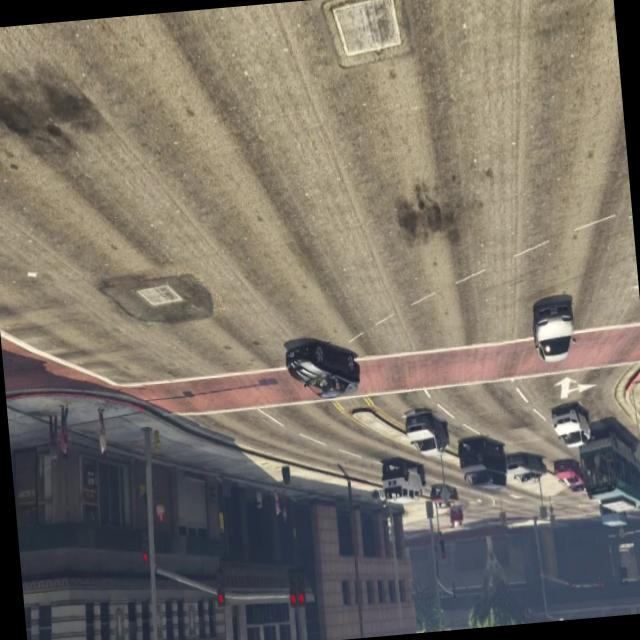Red-Signal: (279, 556, 312, 616), (134, 520, 153, 570), (210, 562, 228, 614)
